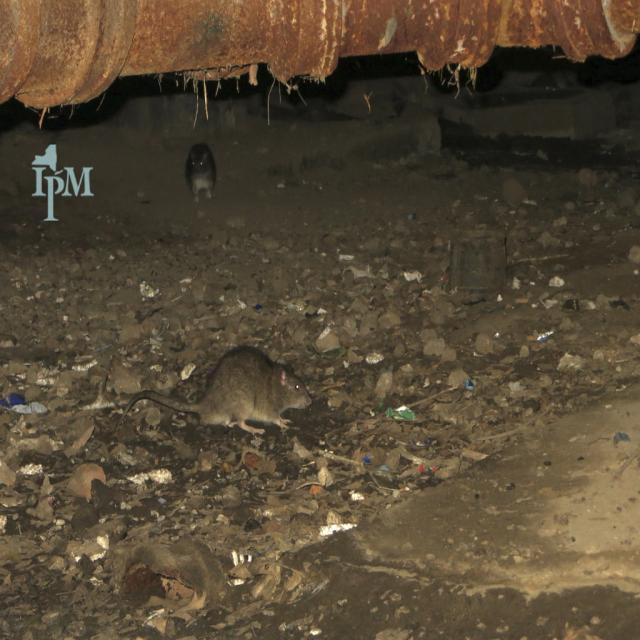rat: (118, 348, 309, 434)
